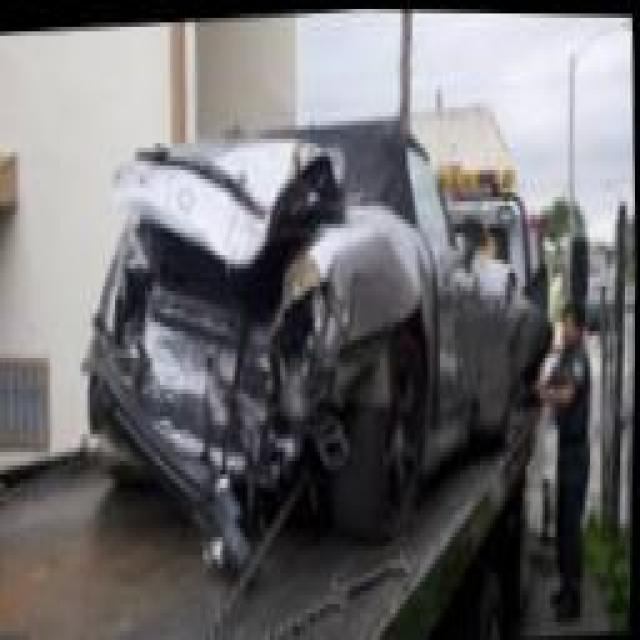Bumper: (82, 325, 318, 566)
Dickey: (115, 131, 348, 346)
Fender: (313, 206, 417, 345)
Light: (276, 274, 333, 369)
